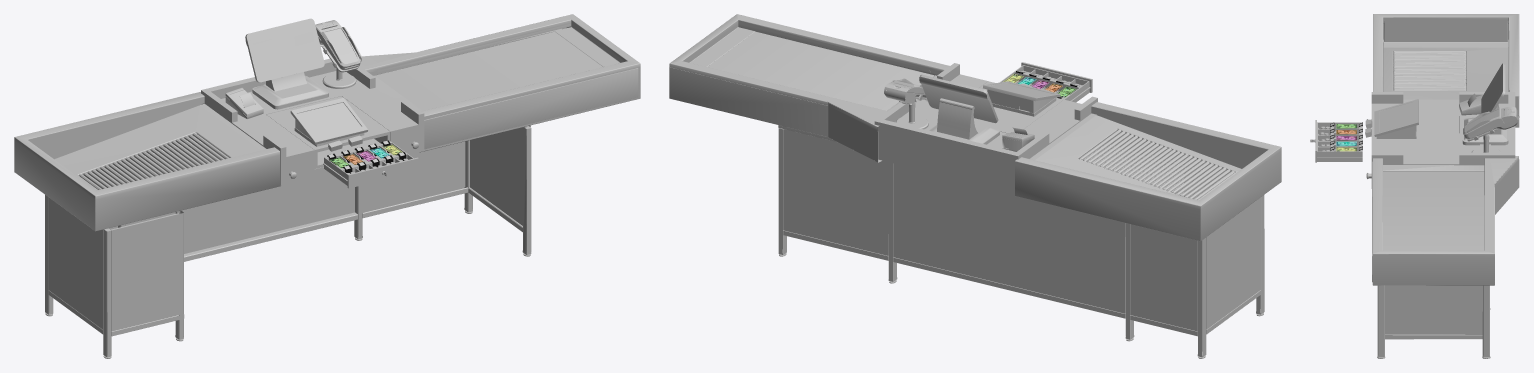
The model's file is Counter_POS.fbx.
The picture shows the model from 3 angles, left to right: view 1: azimuth 30°, elevation 25°; view 2: azimuth 150°, elevation 25°; view 3: azimuth 270°, elevation 25°; orthographic projection. The views are drawn at different scales.
Visible parts, largest first — view 1: Counter_1, Counter_Table, POS, POS_Screen, pos_pos machine_0, Drawer_Cash, Screen_LCD, lcd_counter, Receipt_Machine; view 2: Counter_1, Counter_Table, POS, lcd_counter, Drawer_Cash, pos_pos machine_0, Receipt_Machine; view 3: Counter_1, Counter_Table, Drawer_Cash, pos_pos machine_0, POS, lcd_counter, Screen_LCD, POS_Screen, Receipt_Machine.
Part boxes in pixels (x1,y1,x2,y2): Counter_1: (14,14,640,358); Counter_Table: (201,58,424,185); POS: (245,18,328,109); POS_Screen: (250,22,320,78); pos_pos machine_0: (315,20,361,88); Drawer_Cash: (323,141,418,188); Screen_LCD: (297,102,361,137); lcd_counter: (290,98,367,146); Receipt_Machine: (225,87,263,118); Counter_1: (669,14,1281,358); Counter_Table: (874,63,1097,192); POS: (919,74,999,144); lcd_counter: (983,81,1060,116); Drawer_Cash: (999,62,1092,102); pos_pos machine_0: (884,78,928,129); Receipt_Machine: (1002,127,1034,151); Counter_1: (1372,14,1519,358); Counter_Table: (1366,92,1515,188); Drawer_Cash: (1314,120,1362,162); pos_pos machine_0: (1463,106,1519,152); POS: (1462,63,1508,145); lcd_counter: (1374,99,1418,138); Screen_LCD: (1379,102,1413,131); POS_Screen: (1483,67,1501,112); Receipt_Machine: (1459,93,1482,115).
Size of the model in its own units: 3.51 by 1.37 by 1.29.
